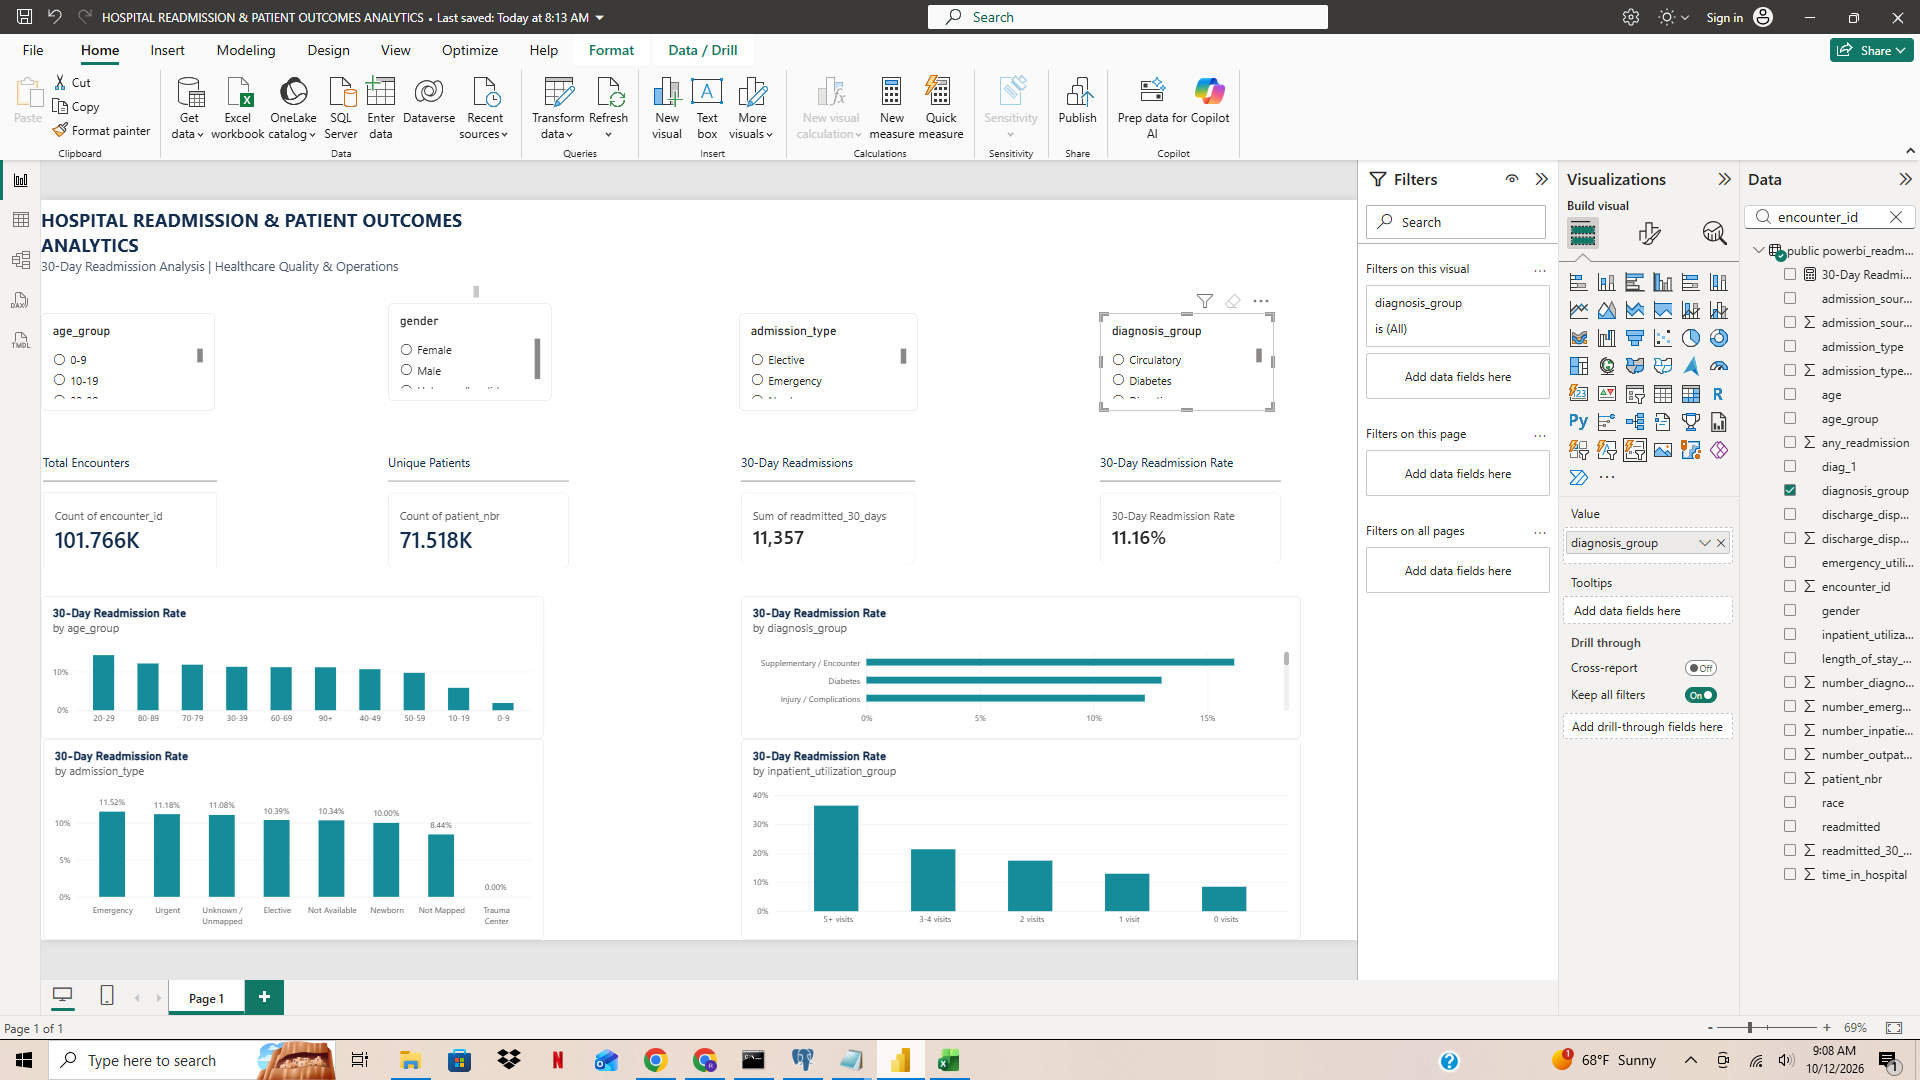

The page's visual inventory and layout, read from the dashboard file:
{"tool":"powerbi","page":{"name":"Page 1","canvas":[1920,1080],"ordinal":0},"visuals":[{"type":"cardVisual","title":"Total Encounters","fields":{"Data":["CountNonNull(public powerbi_readmission_analysis.encounter_id)"]},"box":[2.9,370.6,253.9,166.3],"z":0},{"type":"cardVisual","title":"Unique Patients","fields":{"Data":["Count(public powerbi_readmission_analysis.patient_nbr)"]},"box":[506.3,370.6,264.1,166.3],"z":1},{"type":"cardVisual","title":"30-Day Readmissions","fields":{"Data":["Sum(public powerbi_readmission_analysis.readmitted_30_days)"]},"box":[1021.3,370.6,253.9,160.5],"z":2},{"type":"cardVisual","title":"30-Day Readmission Rate","fields":{"Data":["public powerbi_readmission_analysis.30-Day Readmission Rate"]},"box":[1545,370.6,264.1,160.5],"z":3},{"type":"clusteredColumnChart","fields":{"Category":["public powerbi_readmission_analysis.age_group"],"Y":["public powerbi_readmission_analysis.30-Day Readmission Rate"]},"box":[11.7,595.3,733.9,208.6],"z":4},{"type":"clusteredBarChart","fields":{"Category":["public powerbi_readmission_analysis.diagnosis_group"],"Y":["public powerbi_readmission_analysis.30-Day Readmission Rate"]},"box":[1021.3,595.3,817,208.6],"z":5},{"type":"clusteredColumnChart","fields":{"Category":["public powerbi_readmission_analysis.admission_type"],"Y":["public powerbi_readmission_analysis.30-Day Readmission Rate"]},"box":[2.9,803.9,742.6,249.5],"z":6},{"type":"clusteredColumnChart","fields":{"Category":["public powerbi_readmission_analysis.inpatient_utilization_group"],"Y":["public powerbi_readmission_analysis.30-Day Readmission Rate"]},"box":[1018.4,803.9,819.9,275.7],"z":7},{"type":"listSlicer","fields":{"Values":["public powerbi_readmission_analysis.age_group"]},"box":[0,164.9,253.9,143],"z":8},{"type":"listSlicer","fields":{"Values":["public powerbi_readmission_analysis.gender"]},"box":[506.3,150.3,239.3,143],"z":9},{"type":"listSlicer","fields":{"Values":["public powerbi_readmission_analysis.admission_type"]},"box":[1018.4,164.9,261.2,143],"z":10},{"type":"listSlicer","fields":{"Values":["public powerbi_readmission_analysis.diagnosis_group"]},"box":[1545,150.3,253.9,143],"z":11},{"type":"textbox","title":"HOSPITAL READMISSION & PATIENT OUTCOMES ANALYTICS","box":[0,10.2,639,140.1],"z":12}]}

Visuals, with their boxes on the page's 1920x1080 design canvas (x1, y1, x2, y2). These are canvas units, not pixel positions in the 1920x1080 screenshot, which may show the page scaled, cropped or inside an application window:
"Total Encounters" cardVisual: 3, 371, 257, 537
"Unique Patients" cardVisual: 506, 371, 770, 537
"30-Day Readmissions" cardVisual: 1021, 371, 1275, 531
"30-Day Readmission Rate" cardVisual: 1545, 371, 1809, 531
clusteredColumnChart - public powerbi_readmission_analysis.age_group x public powerbi_readmission_analysis.30-Day Readmission Rate: 12, 595, 746, 804
clusteredBarChart - public powerbi_readmission_analysis.diagnosis_group x public powerbi_readmission_analysis.30-Day Readmission Rate: 1021, 595, 1838, 804
clusteredColumnChart - public powerbi_readmission_analysis.admission_type x public powerbi_readmission_analysis.30-Day Readmission Rate: 3, 804, 746, 1053
clusteredColumnChart - public powerbi_readmission_analysis.inpatient_utilization_group x public powerbi_readmission_analysis.30-Day Readmission Rate: 1018, 804, 1838, 1080
listSlicer - public powerbi_readmission_analysis.age_group: 0, 165, 254, 308
listSlicer - public powerbi_readmission_analysis.gender: 506, 150, 746, 293
listSlicer - public powerbi_readmission_analysis.admission_type: 1018, 165, 1280, 308
listSlicer - public powerbi_readmission_analysis.diagnosis_group: 1545, 150, 1799, 293
"HOSPITAL READMISSION & PATIENT OUTCOMES ANALYTICS" textbox: 0, 10, 639, 150
